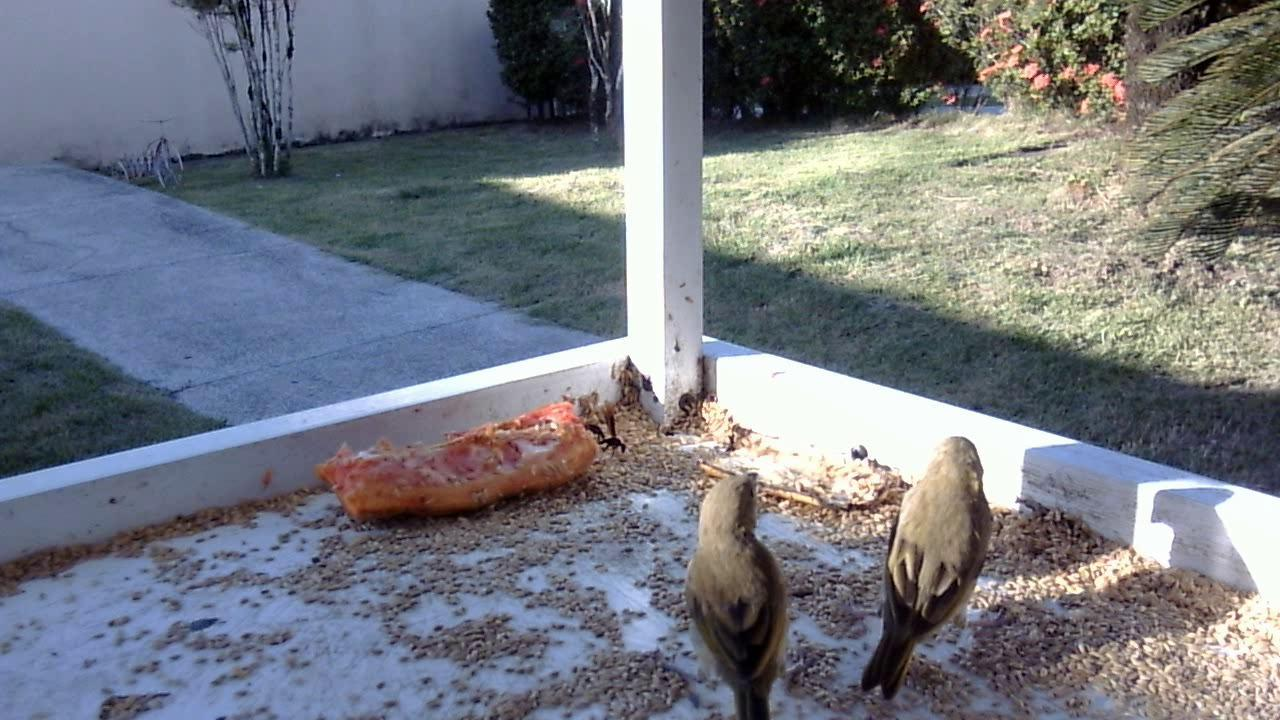canario_do_amazonas: (854, 428, 1005, 704), (662, 466, 796, 716)
